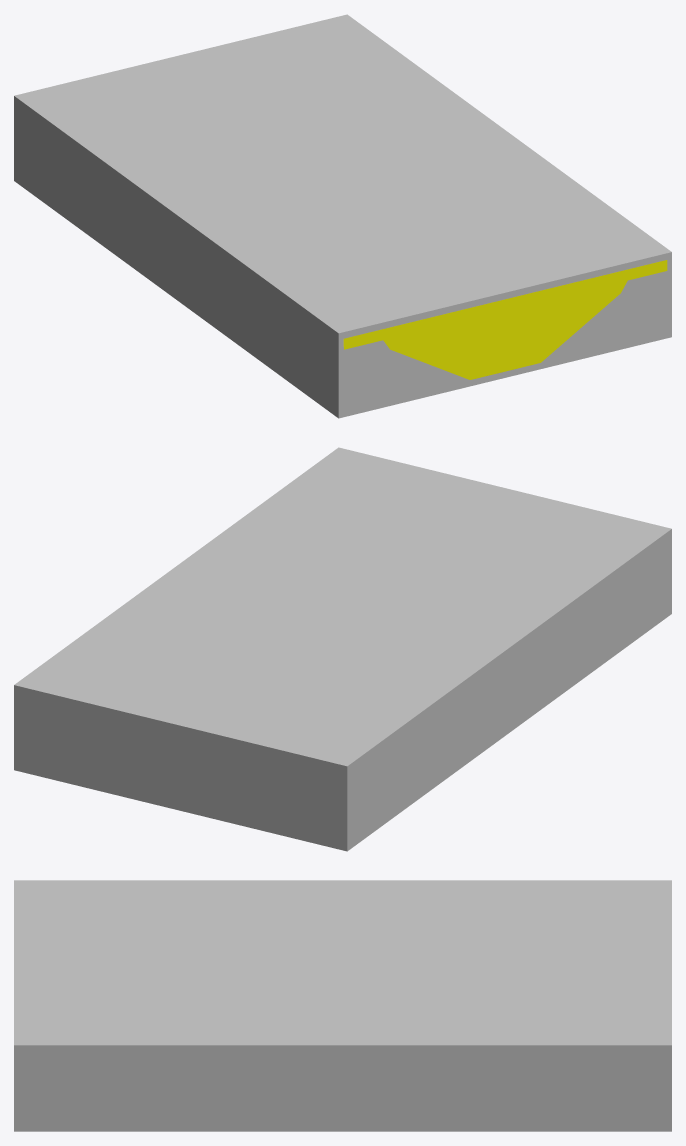
Rendered from sm_hana_fas_fire_alarm_panel.glb.
3 renders of one model, top to bottom at view 1: azimuth 30°, elevation 25°; view 2: azimuth 150°, elevation 25°; view 3: azimuth 270°, elevation 25°, orthographic.
Parts seen in each view (by area): view 1: sm_color_common, sm_hana_fas_fire_alarm_panel; view 2: sm_color_common; view 3: sm_color_common.
Boxes of the visible parts, x1,y1,x2,y2 form: sm_color_common: (14, 14, 671, 418); sm_hana_fas_fire_alarm_panel: (343, 260, 667, 379); sm_color_common: (14, 447, 671, 851); sm_color_common: (14, 880, 671, 1131).
Size of the model in its own units: 0.4751 by 0.116 by 0.8015.
Materials: 2 (1 with a texture image).
